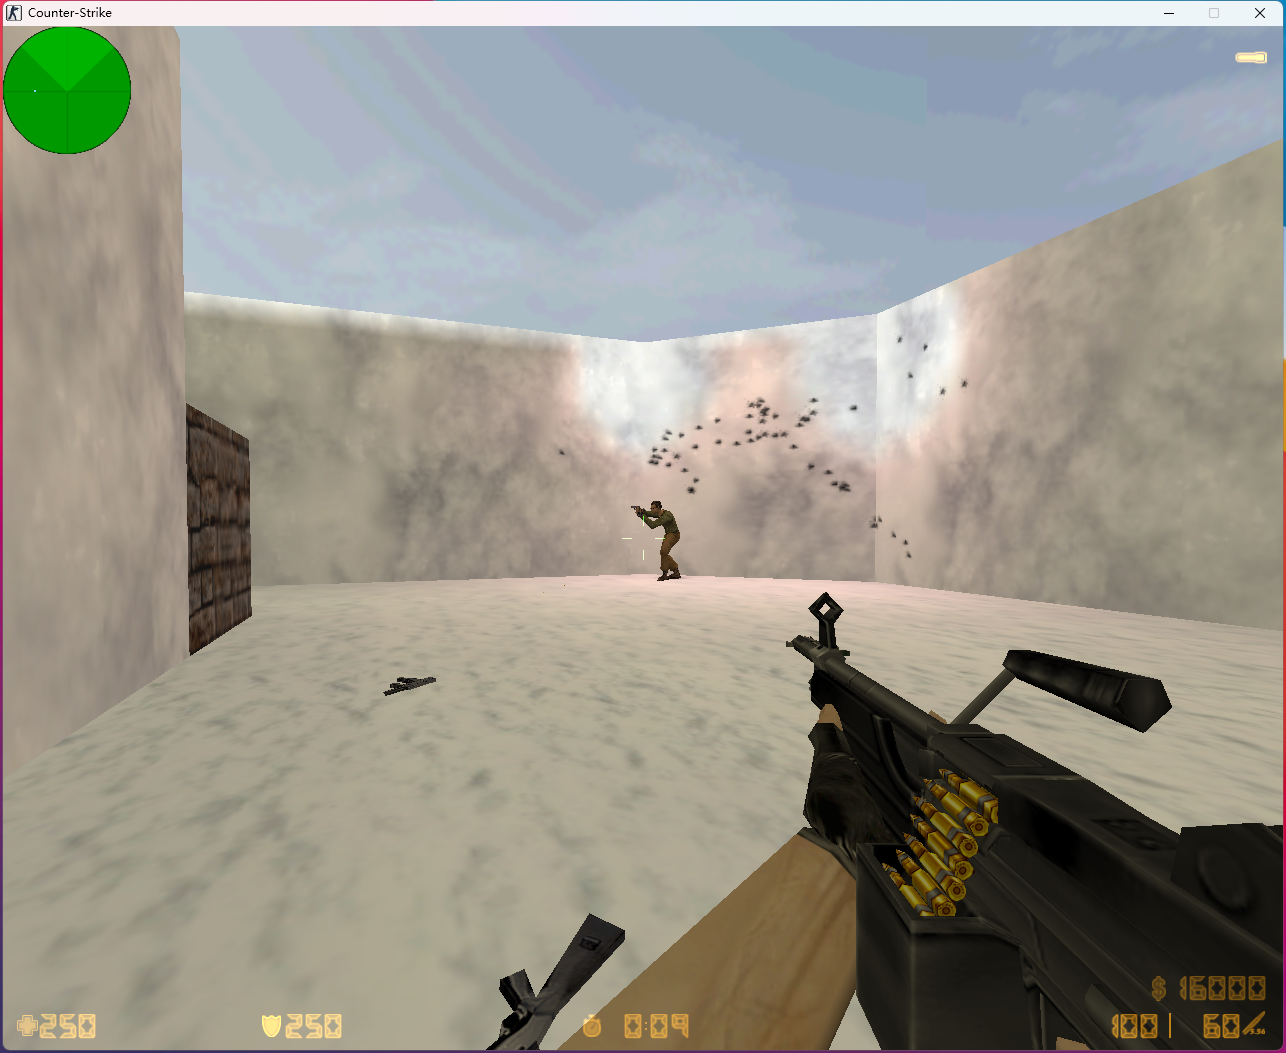T: (629, 500, 683, 582)
weapon: (472, 896, 627, 1053), (385, 675, 435, 697)
